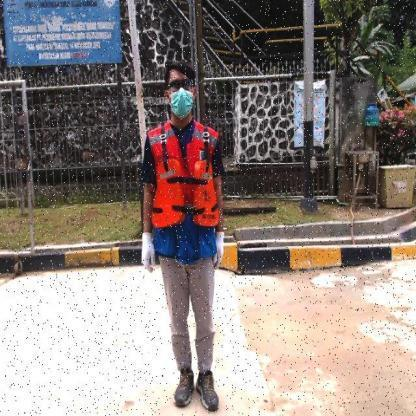boots: (194, 369, 219, 413), (173, 366, 195, 408)
gloves: (211, 230, 227, 270), (141, 231, 156, 273)
goggles: (168, 81, 196, 90)
mask: (170, 88, 194, 119)
vest: (150, 157, 221, 230)
